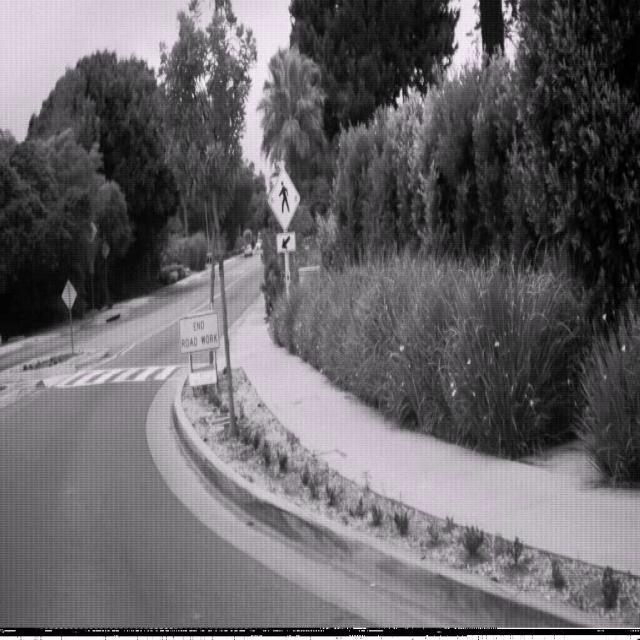pedestrianCrossing: (267, 164, 301, 232)
